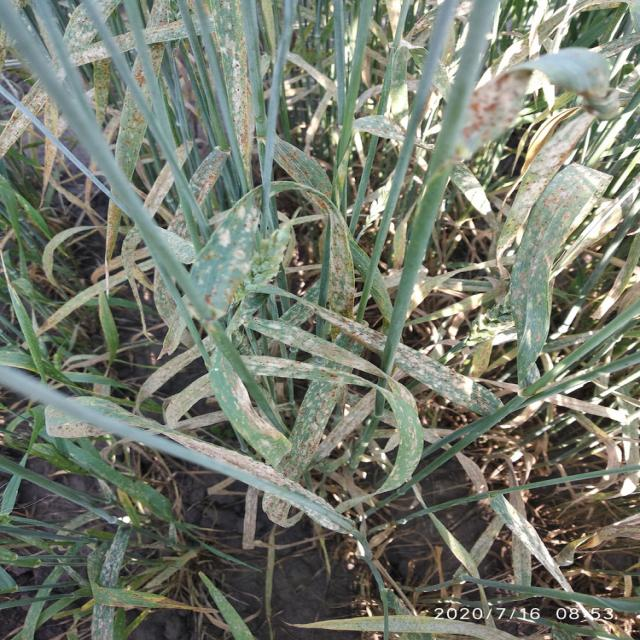wheat-powdery-mildew: (283, 289, 504, 416), (512, 164, 614, 395), (131, 417, 331, 506), (245, 316, 420, 416), (187, 186, 262, 318), (488, 495, 574, 591), (212, 358, 290, 460), (274, 380, 343, 482), (240, 355, 390, 393), (378, 393, 420, 494), (98, 526, 130, 589), (92, 602, 114, 640)
